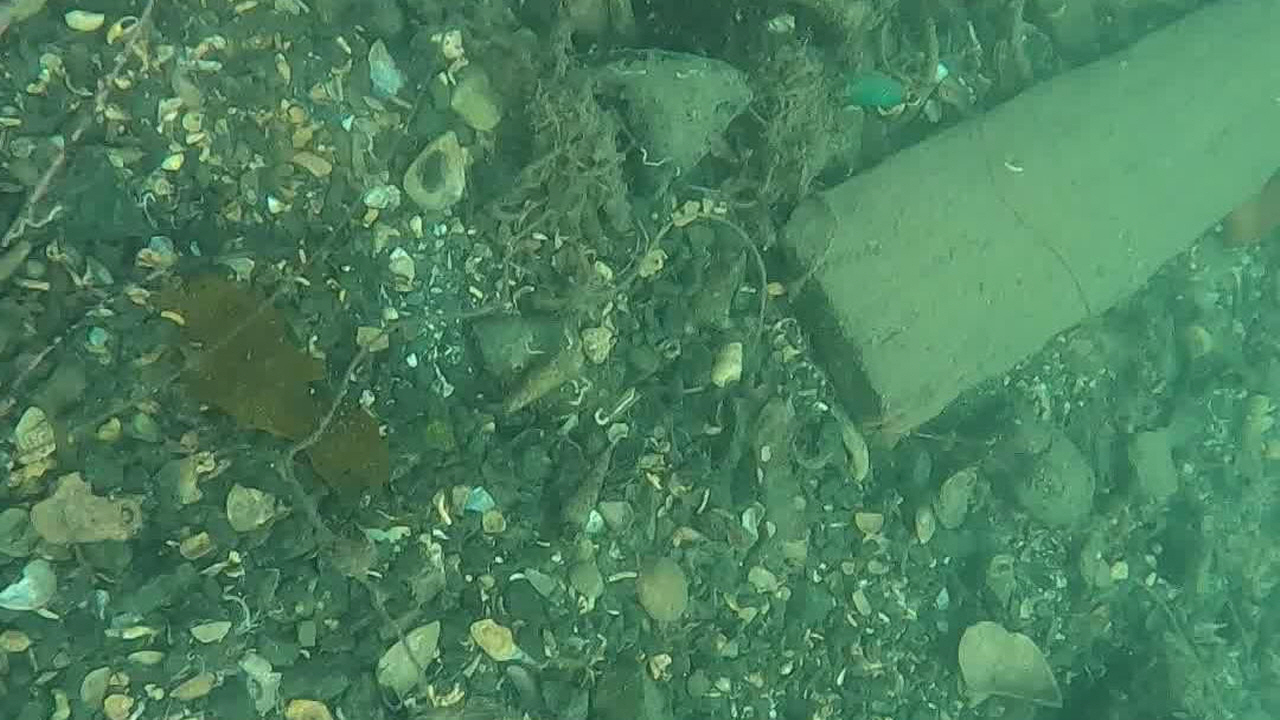wood: (774, 0, 1280, 447)
